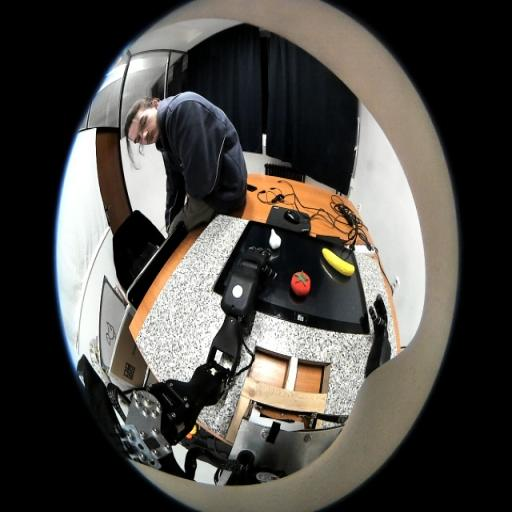Banana: (322, 248, 355, 276)
LeftHand: (243, 248, 266, 263)
Onion: (269, 228, 282, 250)
RightHand: (374, 316, 387, 334)
Tomato: (290, 270, 310, 296)
